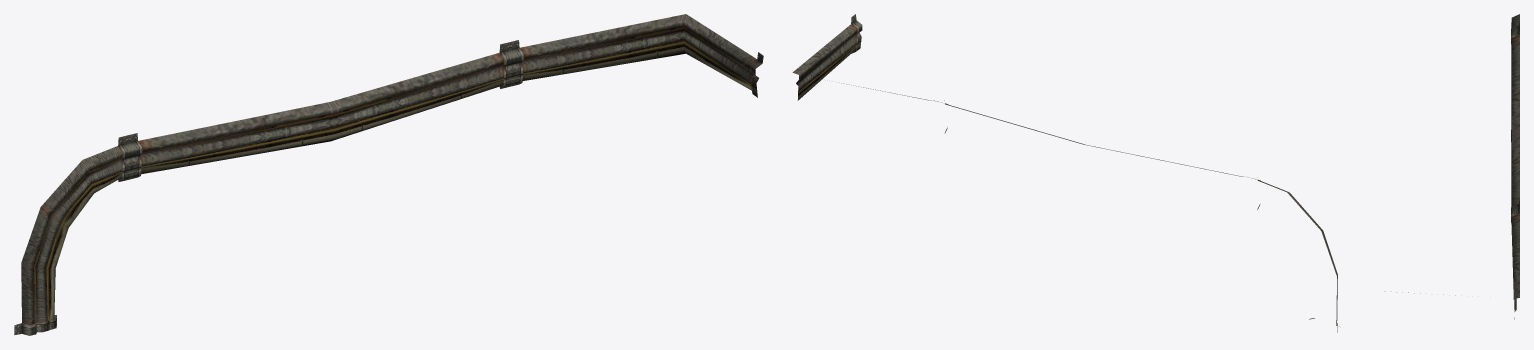
File: M12_SidePipes_G.glb
3 views of the same model, side by side, from view 1: azimuth 30°, elevation 25°; view 2: azimuth 150°, elevation 25°; view 3: azimuth 270°, elevation 25° (orthographic). The views are drawn at different scales.
Visible parts, largest first — view 1: M12_SIDEPIPES_G; view 2: M12_SIDEPIPES_G; view 3: M12_SIDEPIPES_G.
Part boxes in pixels (x1,y1,x2,y2): M12_SIDEPIPES_G: [14, 14, 763, 335]; M12_SIDEPIPES_G: [792, 14, 1337, 332]; M12_SIDEPIPES_G: [1385, 14, 1519, 319].
Size of the model in its own units: 10 by 2.45 by 2.
1 material, 1 textured.
